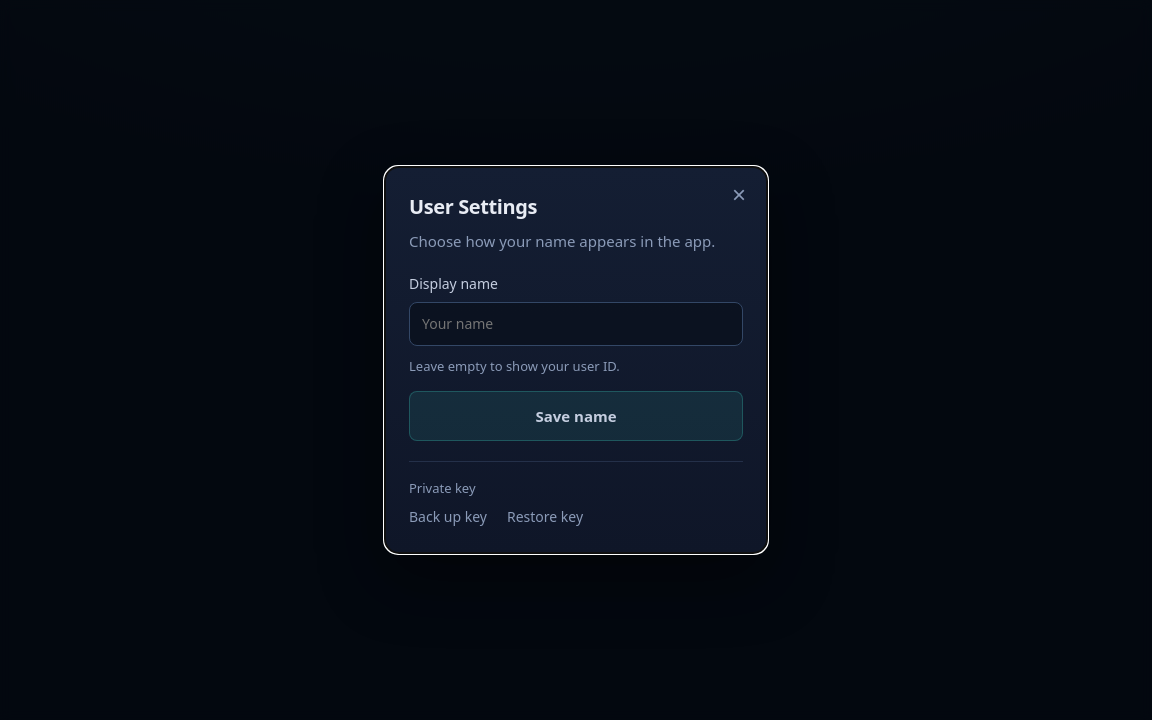
Test: EditNameDialog › opens the backup dialog from the Back up key button
The width and height of the screenshot is (1152, 720).
Click the button "Back up key".
click(448, 518)  # box [409,506,487,529]
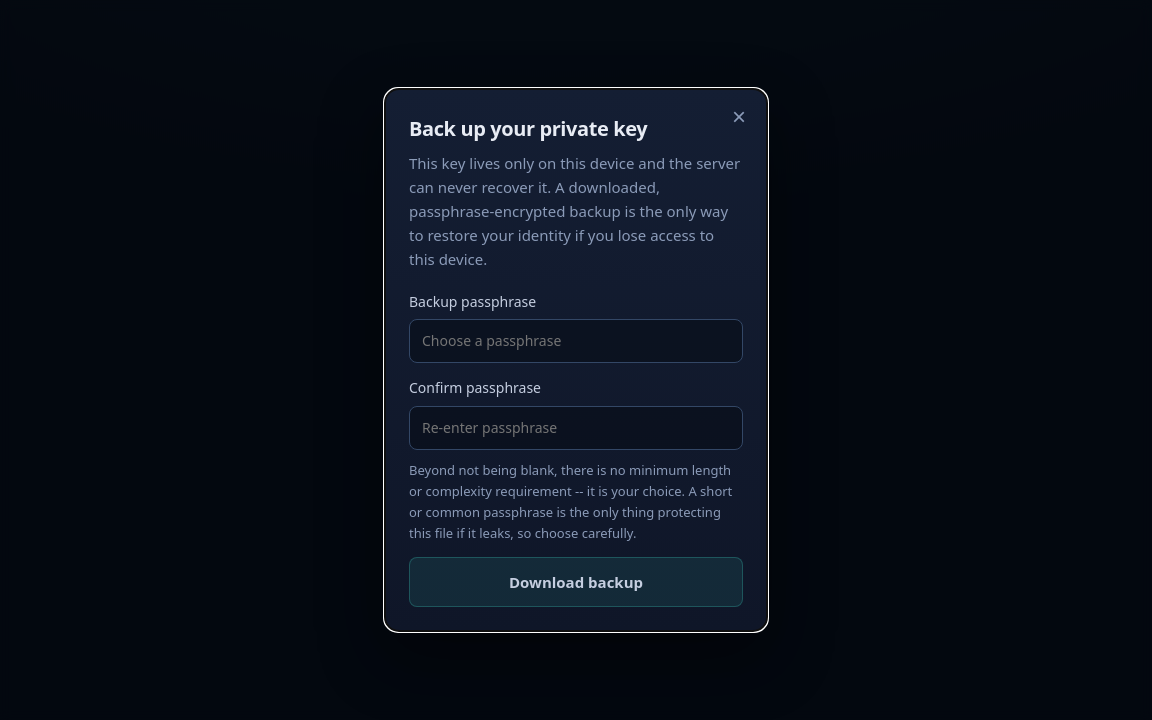
Result: the heading "Back up your private key" is shown at [409,115,647,142]
